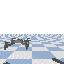drone: (4, 38, 31, 50)
